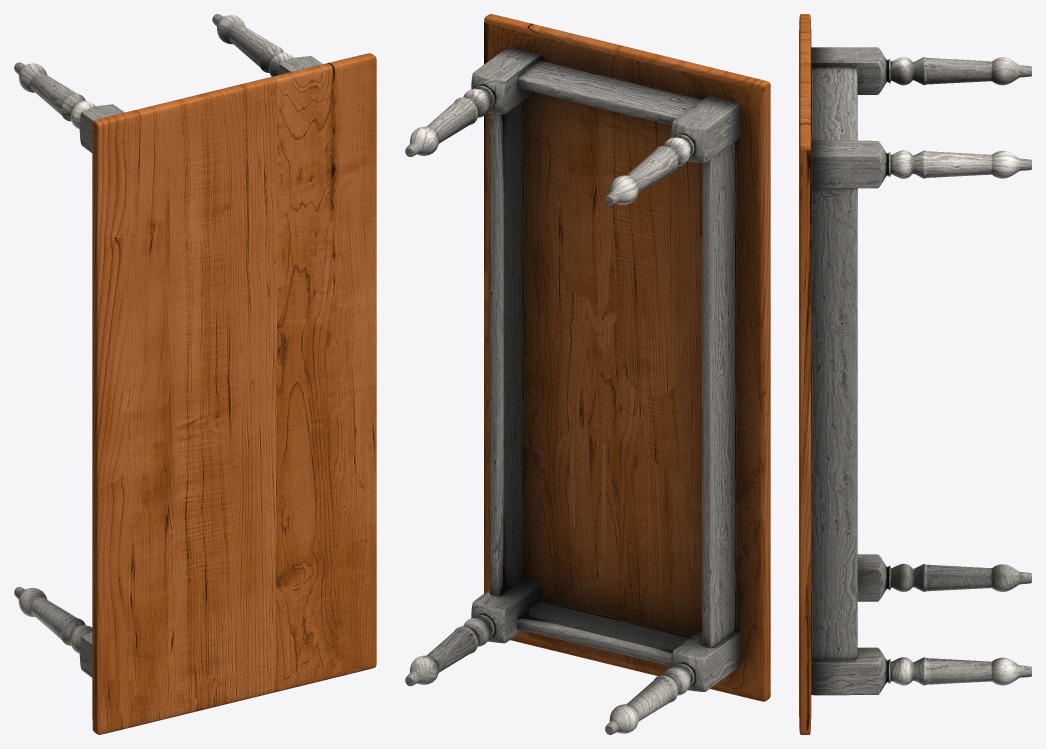
The model's file is 10233_Kitchen_Table_v2_max2011_it2.obj.
3 renders of one model, left to right at view 1: azimuth 30°, elevation 25°; view 2: azimuth 150°, elevation 25°; view 3: azimuth 270°, elevation 25°, orthographic. The views are drawn at different scales.
Parts seen in each view (by area): view 1: 10233_Kitchen_Table_v1; view 2: 10233_Kitchen_Table_v1; view 3: 10233_Kitchen_Table_v1.
Boxes of the visible parts, left/top/right/bottom form: 10233_Kitchen_Table_v1: left=14, top=14, right=376, bottom=734; 10233_Kitchen_Table_v1: left=405, top=14, right=770, bottom=734; 10233_Kitchen_Table_v1: left=799, top=14, right=1031, bottom=734.
Size of the model in its own units: 102 by 213 by 75.95.
1 material, 1 textured.
